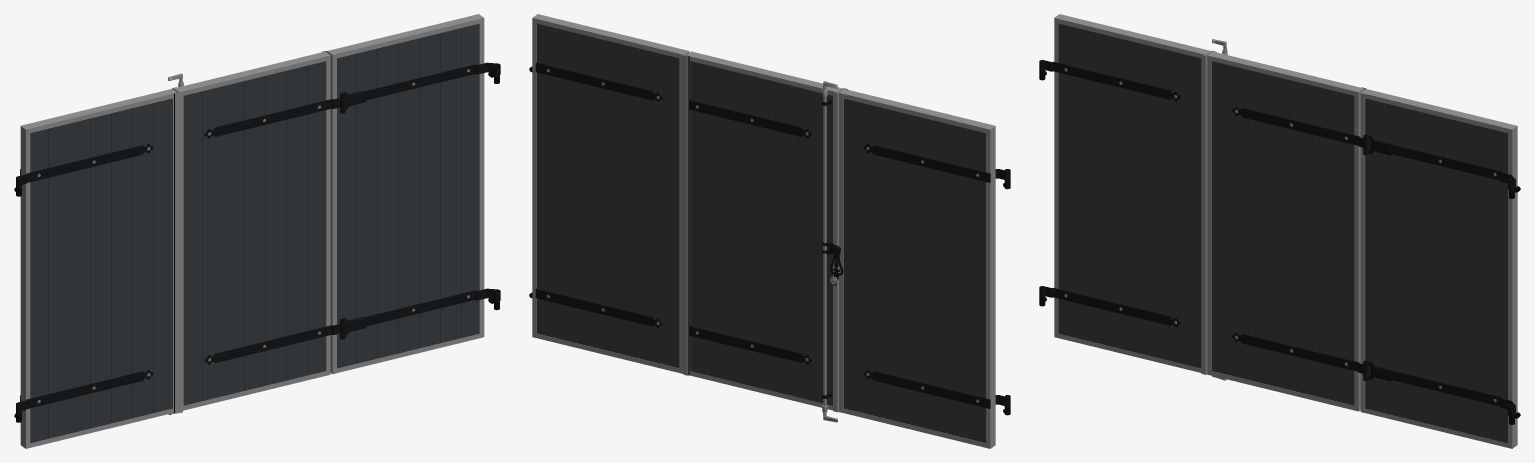
3 renders of one model, left to right at view 1: azimuth 30°, elevation 25°; view 2: azimuth 150°, elevation 25°; view 3: azimuth 330°, elevation 25°, orthographic.
Visible parts, largest first — view 1: Box003, Box001, Box004, Rectangle075, Rectangle077, Rectangle076, Line003, Line006, Plane004, Plane003, Plane011, Plane009 (+2 smaller); view 2: Box001, Box004, Box003, Rectangle075, Rectangle077, Line001, Line006, Rectangle076, Plane014, Plane013, Plane005, Plane006 (+4 smaller); view 3: Box001, Box003, Box004, Rectangle077, Rectangle076, Rectangle075, Line003, Line006, Plane001, Plane002, Plane003, Plane004 (+2 smaller).
Part boxes in pixels (bbox=[...]): Box003: bbox=[183, 61, 325, 405]; Box001: bbox=[30, 98, 172, 442]; Box004: bbox=[337, 23, 479, 368]; Rectangle075: bbox=[20, 89, 176, 448]; Rectangle077: bbox=[327, 14, 484, 372]; Rectangle076: bbox=[174, 51, 330, 410]; Line003: bbox=[173, 88, 183, 413]; Line006: bbox=[322, 50, 336, 374]; Plane004: bbox=[204, 324, 345, 364]; Plane003: bbox=[204, 98, 345, 138]; Plane011: bbox=[366, 288, 500, 326]; Plane009: bbox=[365, 62, 500, 100]; Box001: bbox=[843, 98, 985, 442]; Box004: bbox=[537, 23, 679, 367]; Box003: bbox=[690, 61, 832, 405]; Rectangle075: bbox=[839, 89, 995, 448]; Rectangle077: bbox=[532, 14, 688, 372]; Line001: bbox=[833, 89, 843, 412]; Line006: bbox=[679, 51, 689, 375]; Rectangle076: bbox=[686, 51, 842, 410]; Plane014: bbox=[535, 288, 662, 328]; Plane013: bbox=[535, 62, 662, 101]; Plane005: bbox=[863, 143, 990, 182]; Plane006: bbox=[863, 369, 990, 408]; Box001: bbox=[1058, 23, 1201, 368]; Box003: bbox=[1212, 61, 1354, 405]; Box004: bbox=[1365, 98, 1507, 443]; Rectangle077: bbox=[1361, 89, 1517, 448]; Rectangle076: bbox=[1207, 51, 1363, 411]; Rectangle075: bbox=[1054, 14, 1210, 372]; Line003: bbox=[1201, 51, 1212, 375]; Line006: bbox=[1360, 87, 1366, 412]; Plane001: bbox=[1039, 60, 1180, 101]; Plane002: bbox=[1039, 286, 1180, 327]; Plane003: bbox=[1232, 106, 1368, 150]; Plane004: bbox=[1232, 332, 1368, 376].
Size of the model in its own units: 2185 by 1470 by 154.
6 materials, 3 textured.
